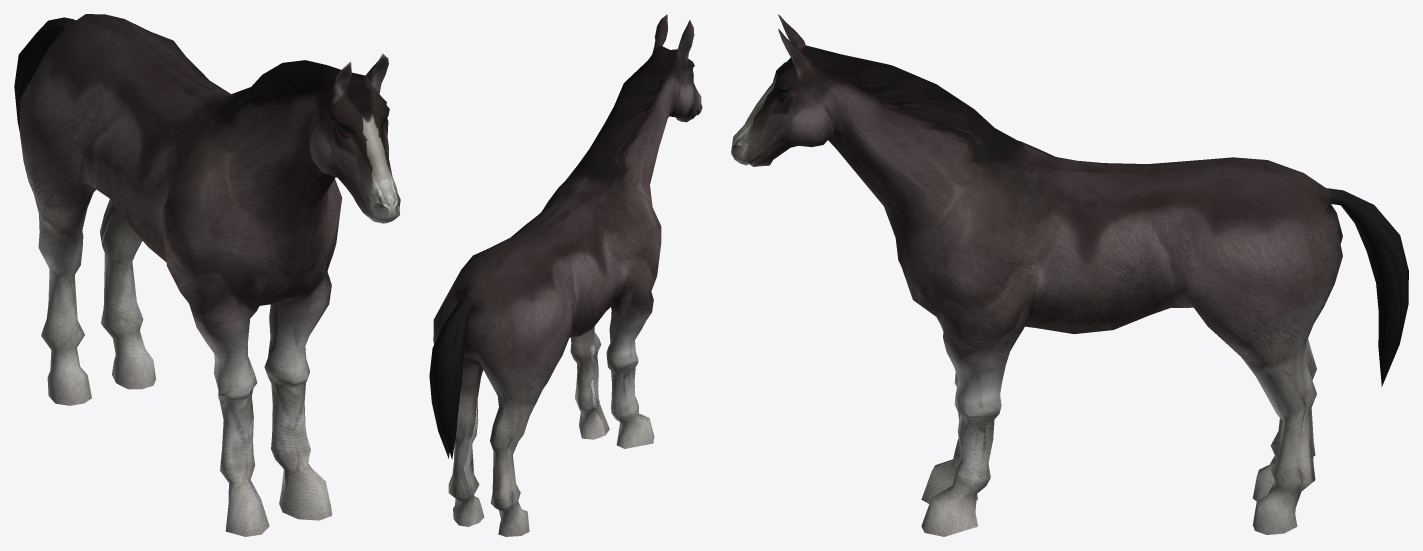
Rendered from Horse2.glb.
3 views of the same model, side by side, from view 1: azimuth 30°, elevation 25°; view 2: azimuth 150°, elevation 25°; view 3: azimuth 270°, elevation 25° (orthographic). The views are drawn at different scales.
Parts seen in each view (by area): view 1: Horse2; view 2: Horse2; view 3: Horse2.
Boxes of the visible parts, <box> form: Horse2: <box>14,14,400,536</box>; Horse2: <box>429,14,702,536</box>; Horse2: <box>731,14,1408,536</box>.
Bounding box in the file's own units: 0.6161 × 1.93 × 2.41.
Materials: 1 (1 with a texture image).
